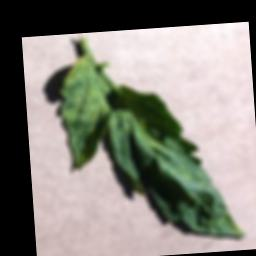Leaf_Mold: (63, 54, 92, 86)
